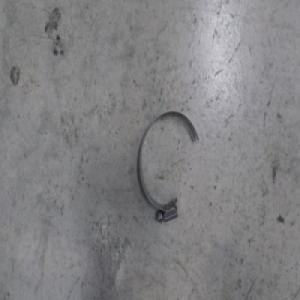AdjustableClamp: (137, 109, 199, 224)
